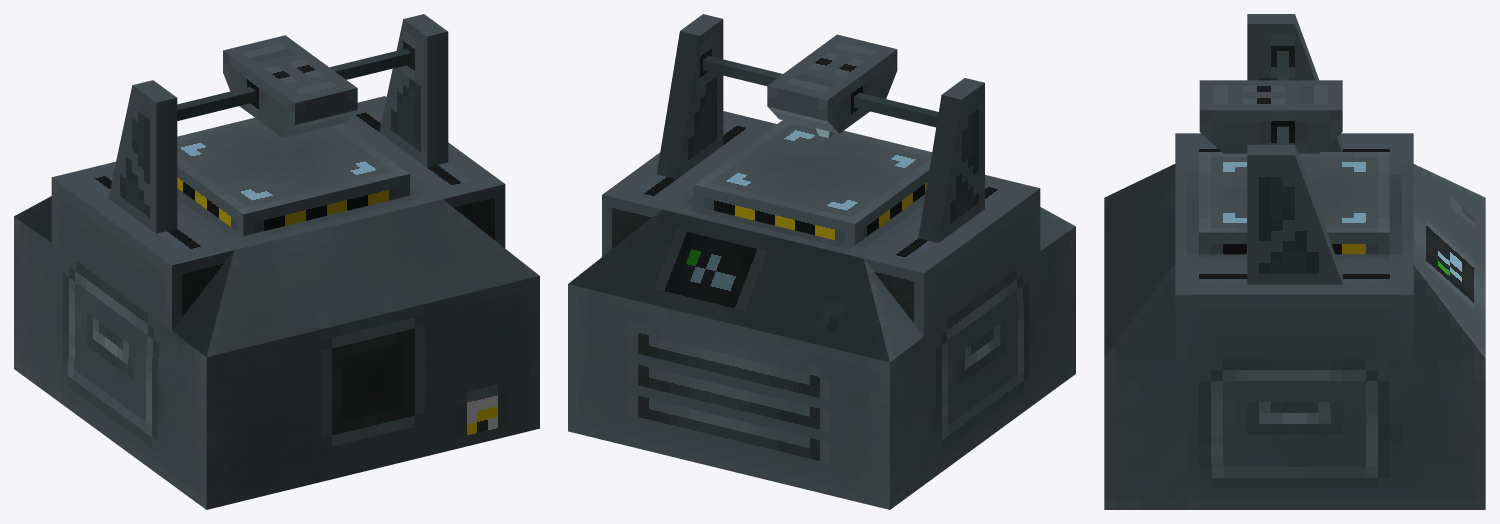
File: inscriber.obj
The picture shows the model from 3 angles, left to right: view 1: azimuth 30°, elevation 25°; view 2: azimuth 150°, elevation 25°; view 3: azimuth 270°, elevation 25°; orthographic projection. The views are drawn at different scales.
Visible parts, largest first — view 1: inscriber_inscriber.001_inscriber.007; view 2: inscriber_inscriber.001_inscriber.007; view 3: inscriber_inscriber.001_inscriber.007.
Part boxes in pixels (<box>): inscriber_inscriber.001_inscriber.007: <box>14,14,539,509</box>; inscriber_inscriber.001_inscriber.007: <box>568,14,1075,509</box>; inscriber_inscriber.001_inscriber.007: <box>1104,14,1485,509</box>.
Size of the model in its own units: 0.9632 by 0.96 by 0.96.
